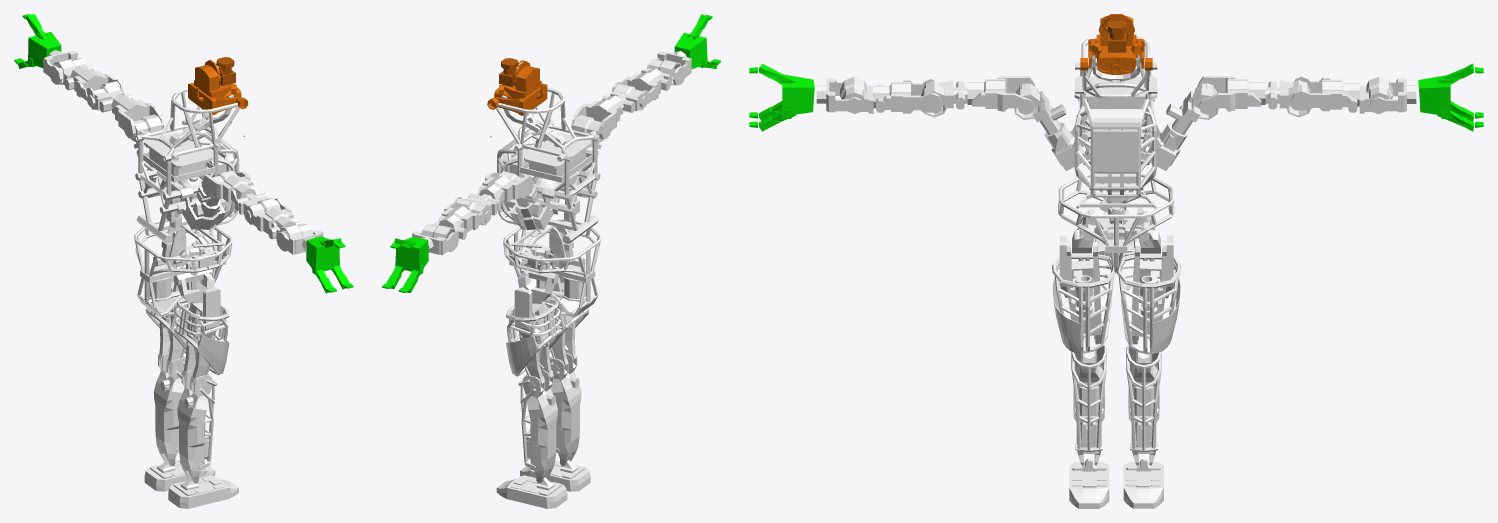
The model's file is flor_atlas.dae.
The picture shows the model from 3 angles, left to right: view 1: azimuth 30°, elevation 25°; view 2: azimuth 150°, elevation 25°; view 3: azimuth 270°, elevation 25°; orthographic projection. The views are drawn at different scales.
Visible parts, largest first — view 1: utorso, pelvis, r_uleg, r_lleg, l_lleg, head, r_foot, l_uleg, l_scap, r_scap, l_larm, l_foot (+13 smaller); view 2: utorso, pelvis, l_uleg, l_lleg, r_lleg, head, l_foot, r_uleg, r_scap, l_scap, l_larm, r_foot (+13 smaller); view 3: utorso, l_uleg, r_uleg, pelvis, r_lleg, l_lleg, head, l_scap, r_scap, l_larm, l_foot, r_foot (+11 smaller).
Part boxes in pixels (bbox=[...]): utorso: bbox=[135, 88, 239, 243]; pelvis: bbox=[134, 218, 232, 317]; r_uleg: bbox=[173, 286, 229, 385]; r_lleg: bbox=[177, 369, 217, 483]; l_lleg: bbox=[153, 352, 185, 465]; head: bbox=[188, 60, 248, 115]; r_foot: bbox=[168, 475, 238, 508]; l_uleg: bbox=[145, 277, 189, 369]; l_scap: bbox=[111, 94, 164, 138]; r_scap: bbox=[202, 172, 258, 202]; l_larm: bbox=[70, 65, 123, 100]; l_foot: bbox=[144, 460, 215, 491]; utorso: bbox=[496, 87, 600, 243]; pelvis: bbox=[503, 218, 601, 317]; l_uleg: bbox=[505, 279, 561, 387]; l_lleg: bbox=[518, 370, 557, 483]; r_lleg: bbox=[549, 353, 581, 466]; head: bbox=[487, 60, 547, 115]; l_foot: bbox=[496, 475, 567, 508]; r_uleg: bbox=[546, 277, 589, 368]; r_scap: bbox=[571, 95, 623, 139]; l_scap: bbox=[477, 172, 533, 202]; l_larm: bbox=[437, 197, 489, 232]; r_foot: bbox=[520, 460, 590, 491]; utorso: bbox=[1044, 34, 1187, 197]; l_uleg: bbox=[1116, 235, 1181, 354]; r_uleg: bbox=[1052, 236, 1115, 354]; pelvis: bbox=[1058, 173, 1174, 272]; r_lleg: bbox=[1071, 338, 1106, 465]; l_lleg: bbox=[1126, 338, 1161, 465]; head: bbox=[1080, 14, 1152, 74]; l_scap: bbox=[1197, 76, 1265, 114]; r_scap: bbox=[967, 76, 1035, 114]; l_larm: bbox=[1291, 76, 1359, 111]; l_foot: bbox=[1123, 462, 1163, 508]; r_foot: bbox=[1069, 462, 1109, 508].
Bounding box in the file's own units: 0.3828 × 2.38 × 1.75.
